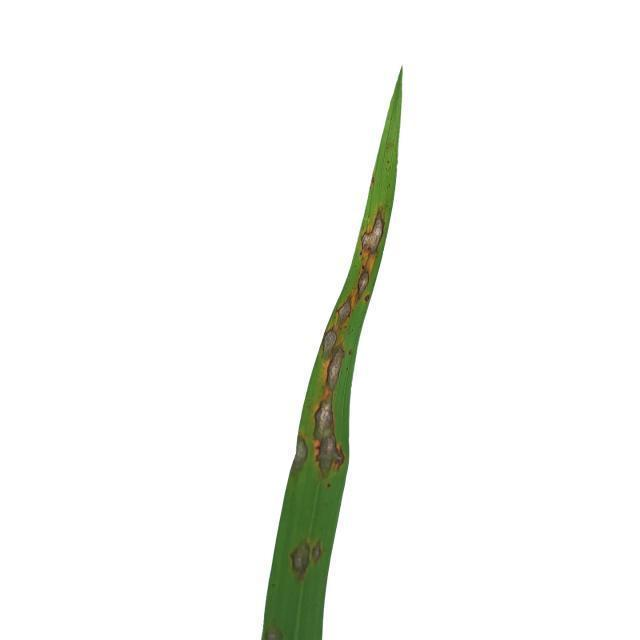Leaf_Blast: (313, 392, 346, 478), (288, 535, 323, 589), (357, 206, 389, 260), (322, 346, 345, 399), (335, 293, 355, 330), (296, 437, 312, 474), (321, 328, 338, 360), (356, 266, 370, 301)
